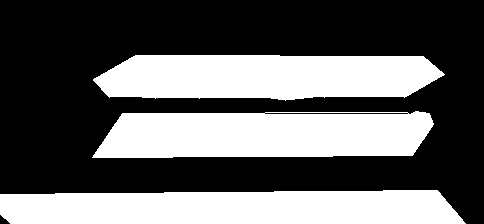parkingspot: (0, 190, 465, 224), (93, 55, 444, 100), (92, 111, 433, 157)
